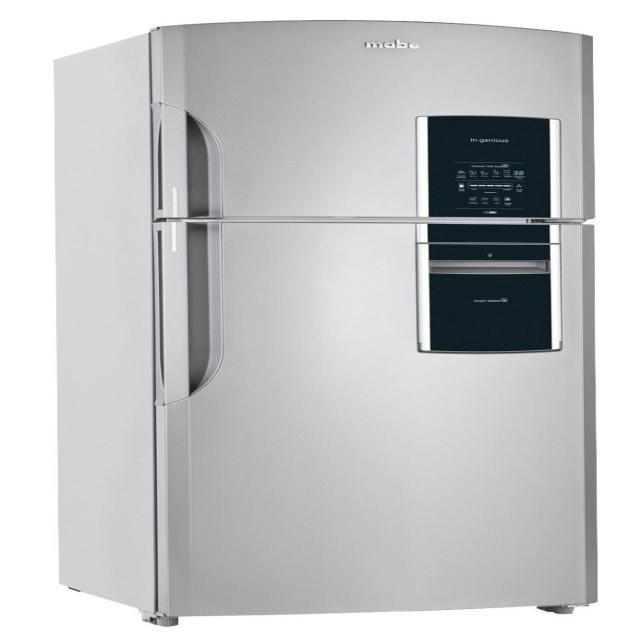obstacle: (53, 19, 598, 626)
